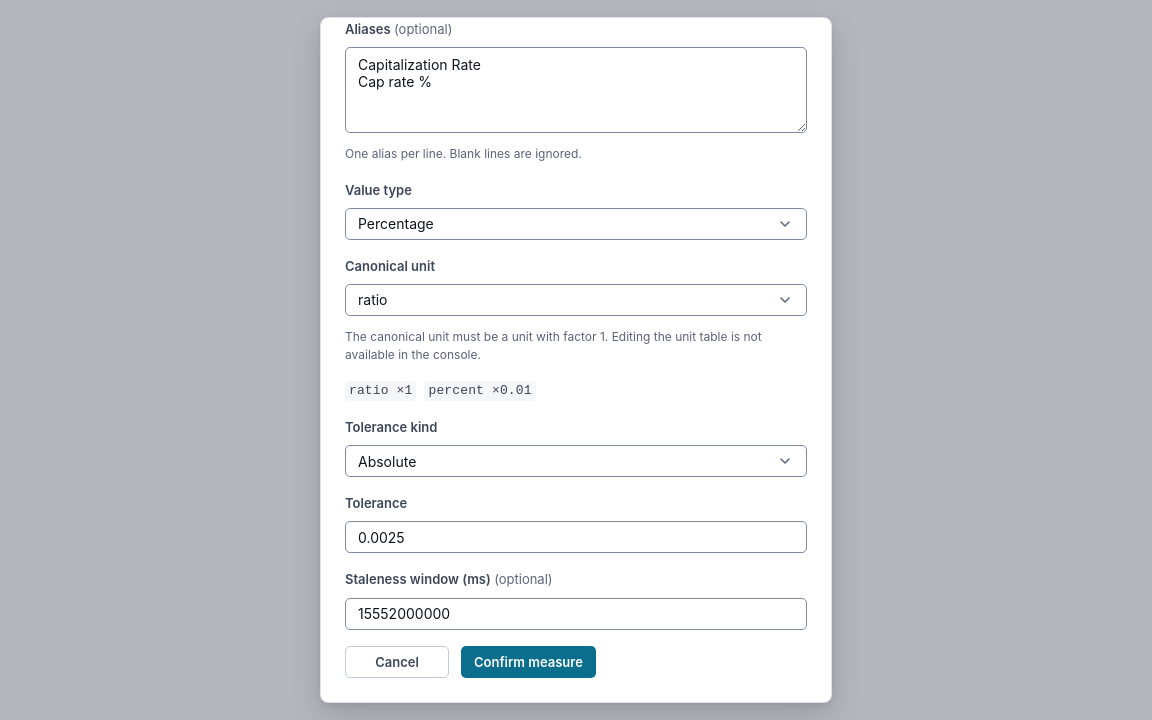
Scenario: MeasureEditorDialog › lands a tolerance field-validation error on the Tolerance field, not the form banner
(page scrolled)
Click the button "Confirm measure": [528, 662] box left=461, top=646, right=596, bottom=678
(page scrolled)
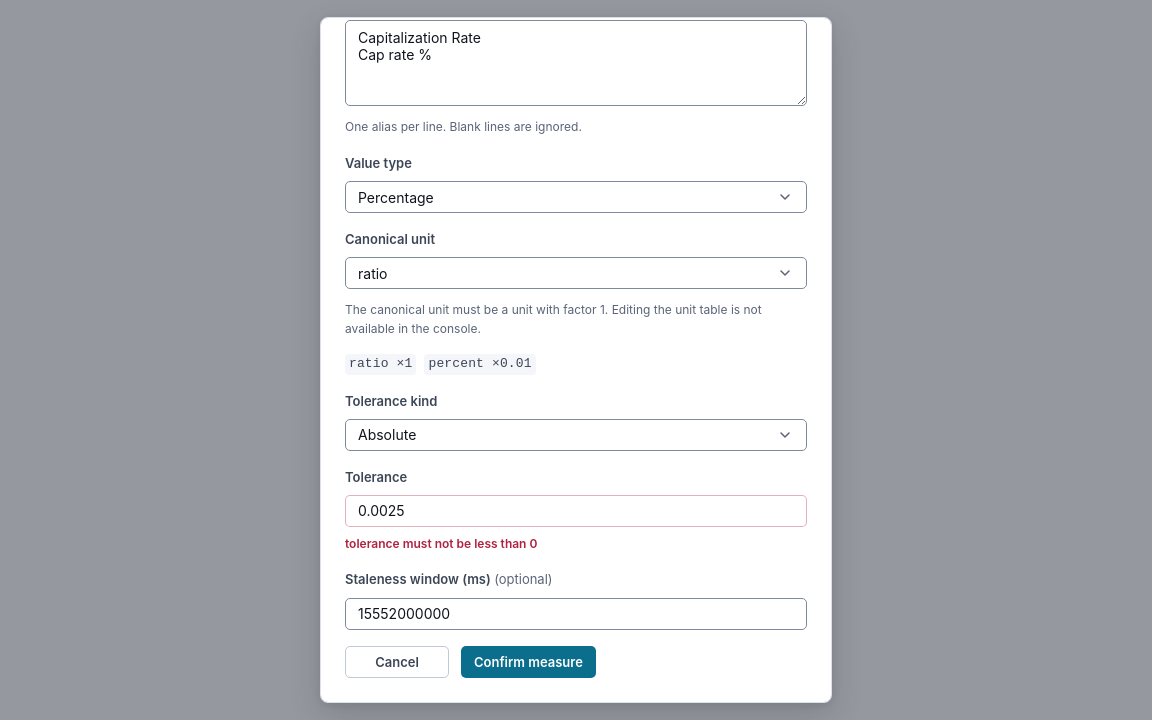
Result: the text "tolerance must not be less than 0" is shown at left=344, top=535, right=537, bottom=551
